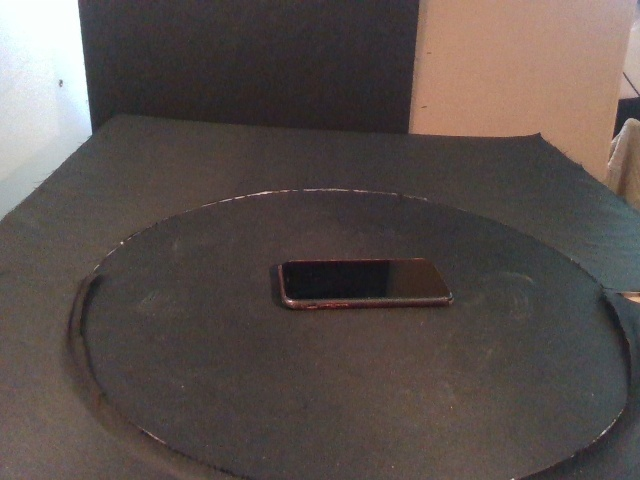phone: (276, 257, 454, 311)
